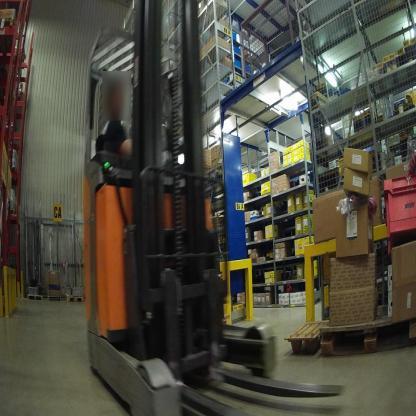forklift: (74, 4, 340, 410)
pallet: (315, 309, 411, 353), (1, 16, 18, 49), (65, 290, 86, 304), (27, 289, 44, 304)
small_load_carrier: (382, 169, 415, 251)
